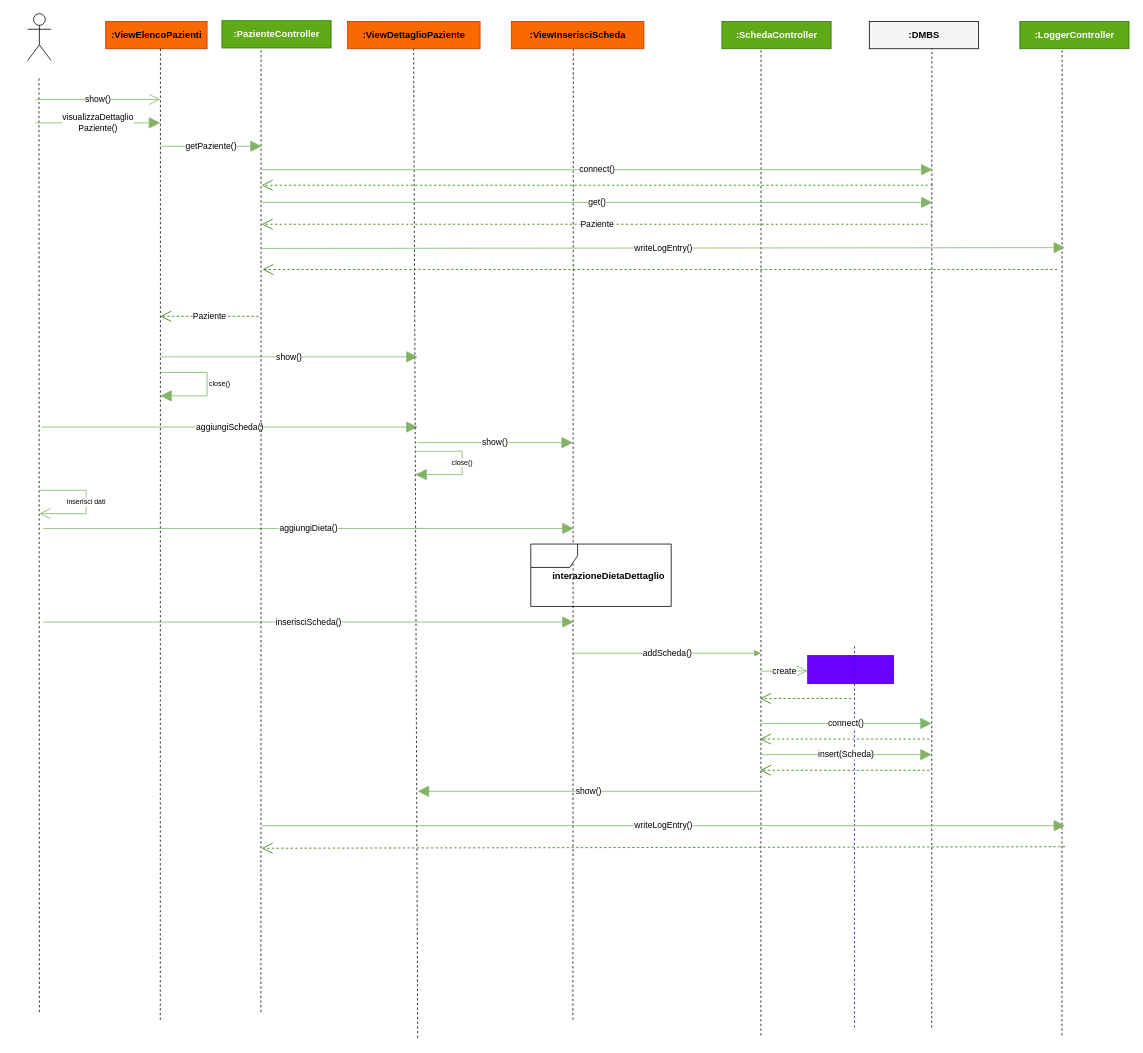
This 1143x1053 diagram has some shape labels left out. Each missing label, with the box of its shape:
:Scheda: (807, 655, 893, 684)
Nutrizionista: (27, 13, 51, 60)
ref: (530, 543, 671, 606)
